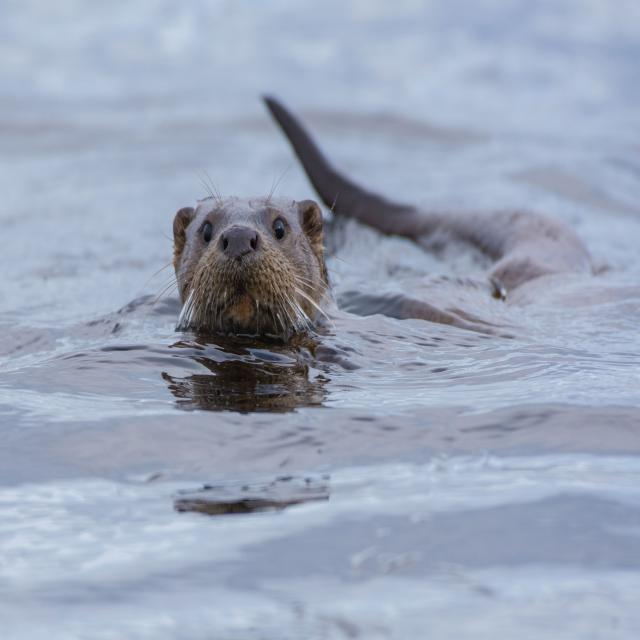otter: (175, 198, 326, 334)
